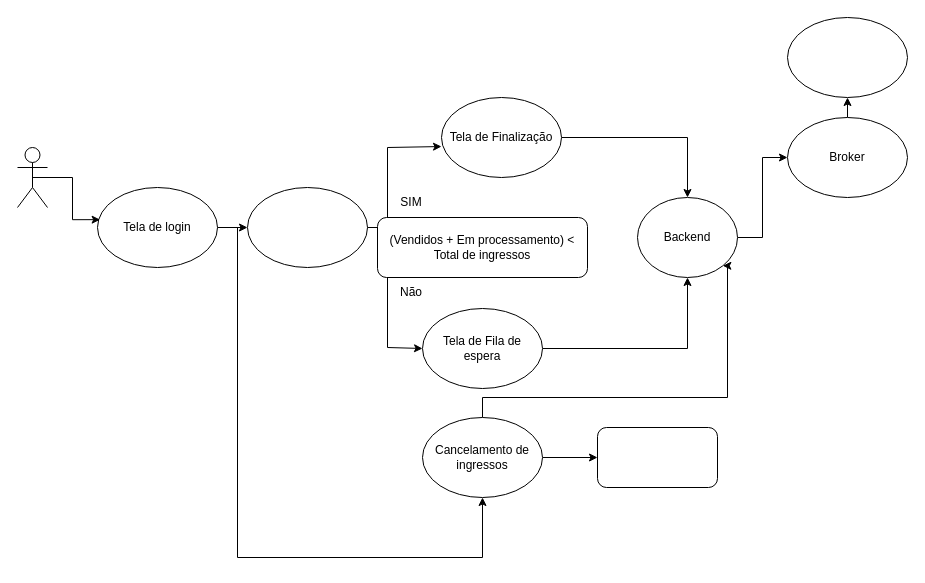
This 925x583 diagram has some shape labels left out. The box of each missing label's shape, as (x1, y1, x2, y2) in pixels:
Actor: (16, 146, 48, 208)
Atualiza disponibilidade da fila: (596, 426, 718, 488)
Banco: (786, 16, 908, 98)
Tela de compra: (246, 186, 368, 268)
